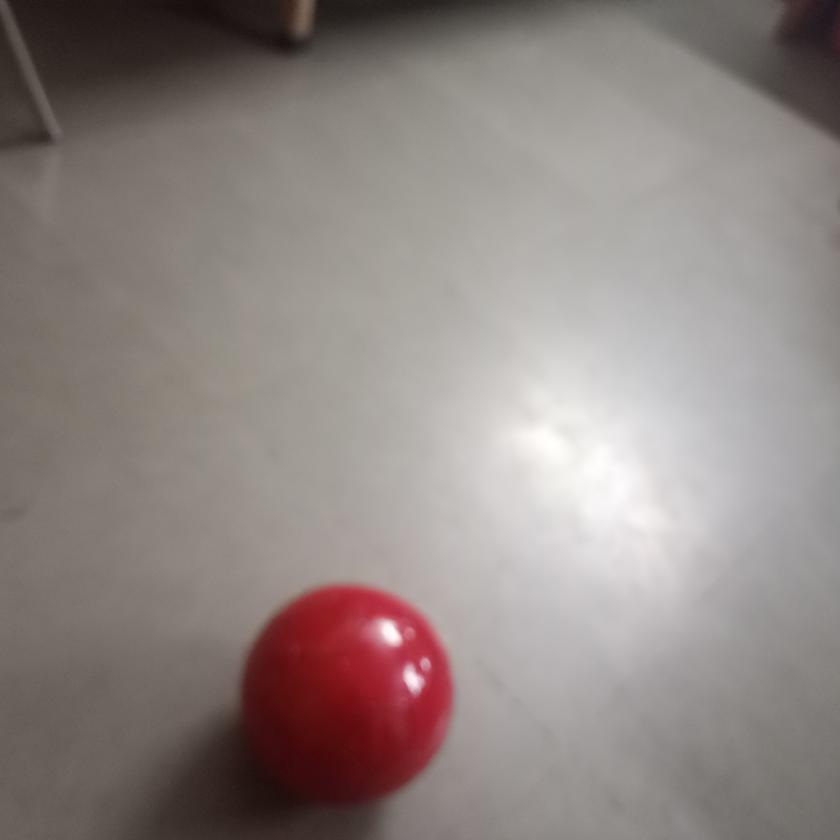Red_Ball: (219, 589, 461, 805)
